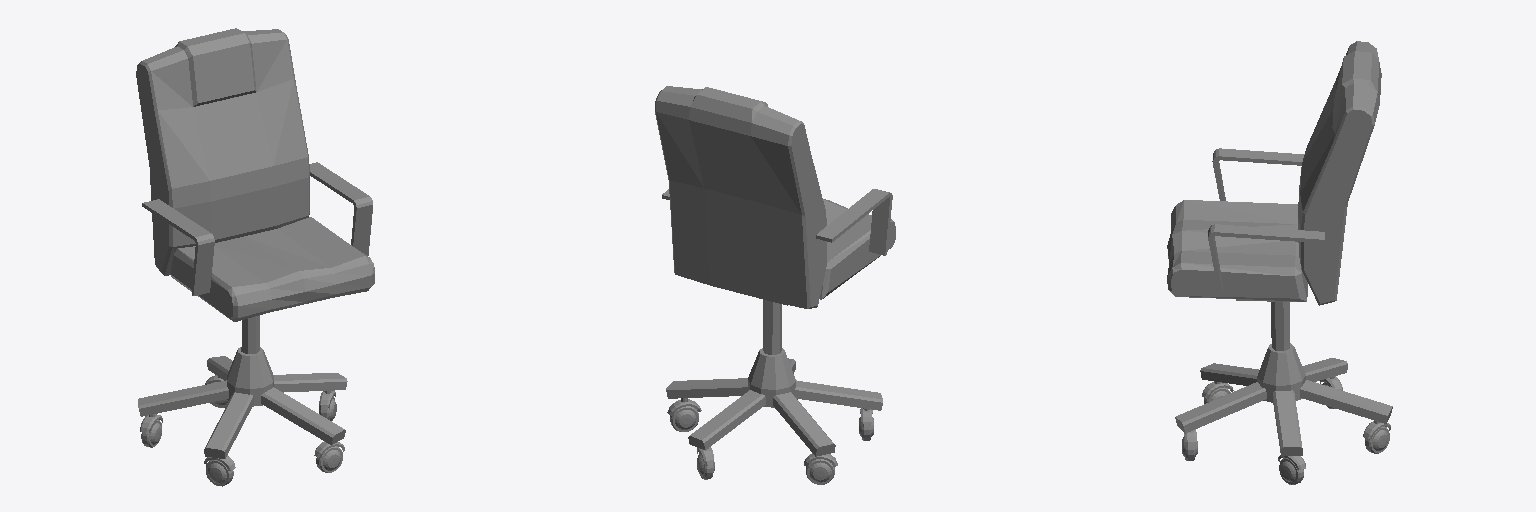
File: Office_chair.obj
3 renders of one model, left to right at view 1: azimuth 30°, elevation 25°; view 2: azimuth 150°, elevation 25°; view 3: azimuth 270°, elevation 25°, orthographic.
Visible parts, largest first — view 1: Chair_2, Chair_1; view 2: Chair_2, Chair_1; view 3: Chair_2, Chair_1.
Part boxes in pixels (left/top/right/bottom): Chair_2: left=136, top=28, right=374, bottom=321; Chair_1: left=138, top=315, right=347, bottom=486; Chair_2: left=655, top=86, right=895, bottom=308; Chair_1: left=666, top=300, right=882, bottom=484; Chair_2: left=1167, top=41, right=1381, bottom=305; Chair_1: left=1175, top=302, right=1392, bottom=484.
Size of the model in its own units: 30.56 by 59.96 by 32.31.